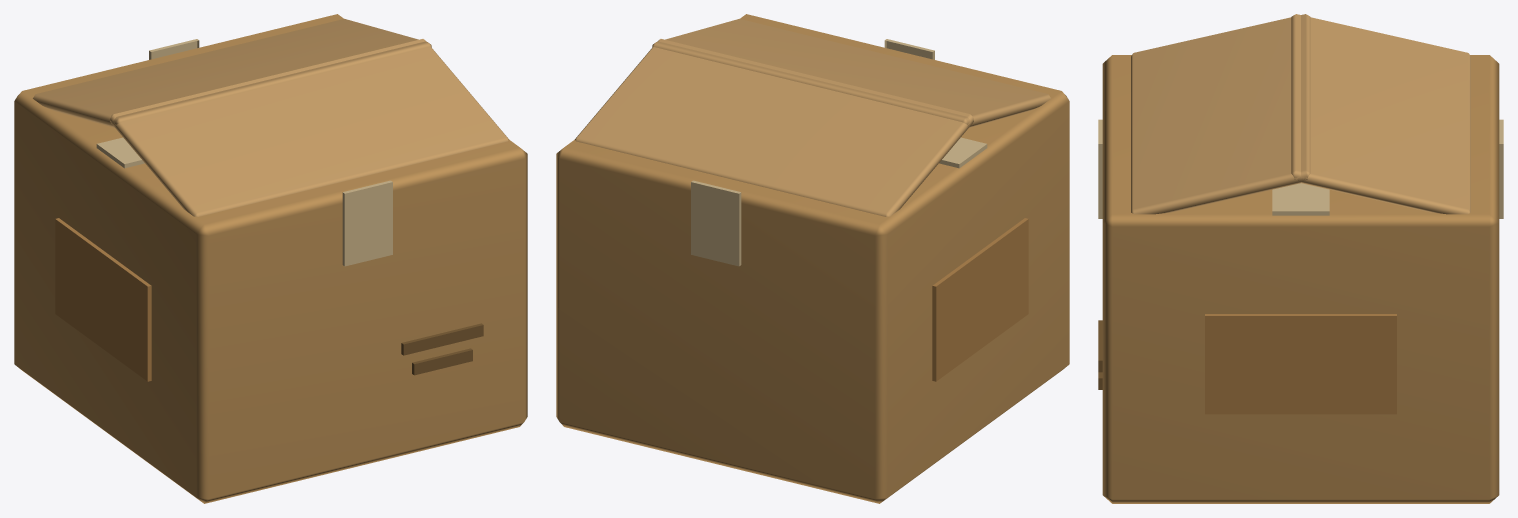
Rendered from block-hide.glb.
3 renders of one model, left to right at view 1: azimuth 30°, elevation 25°; view 2: azimuth 150°, elevation 25°; view 3: azimuth 270°, elevation 25°, orthographic. The views are drawn at different scales.
Visible parts, largest first — view 1: block-hide; view 2: block-hide; view 3: block-hide.
Boxes of the visible parts, x1,y1,x2,y2 form: block-hide: [14, 14, 527, 503]; block-hide: [556, 14, 1069, 503]; block-hide: [1098, 14, 1503, 503].
Size of the model in its own units: 1.27 by 1.15 by 1.27.
